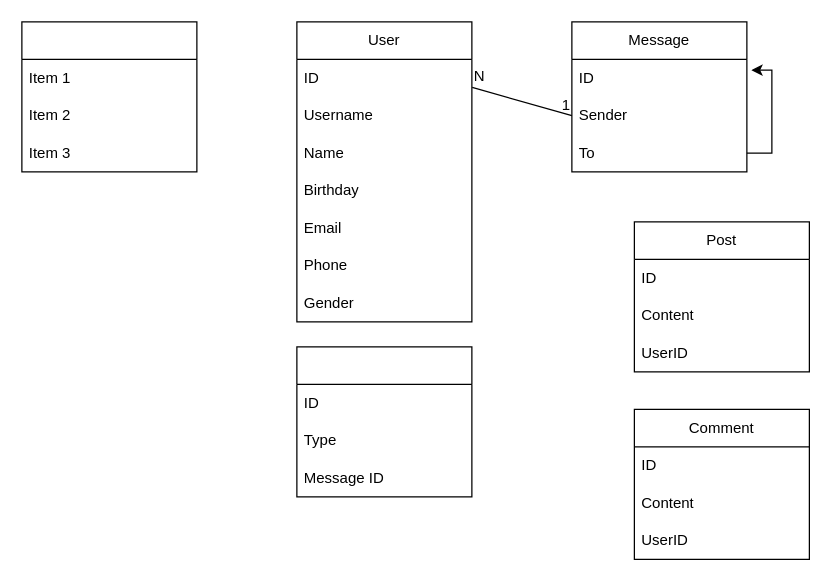
The diagram is 831 pixels wide and 581 high, and some of its shapes have lost their labels. Each missing label, with the box of its shape:
Media: (296, 346, 472, 497)
search: (21, 21, 197, 172)
